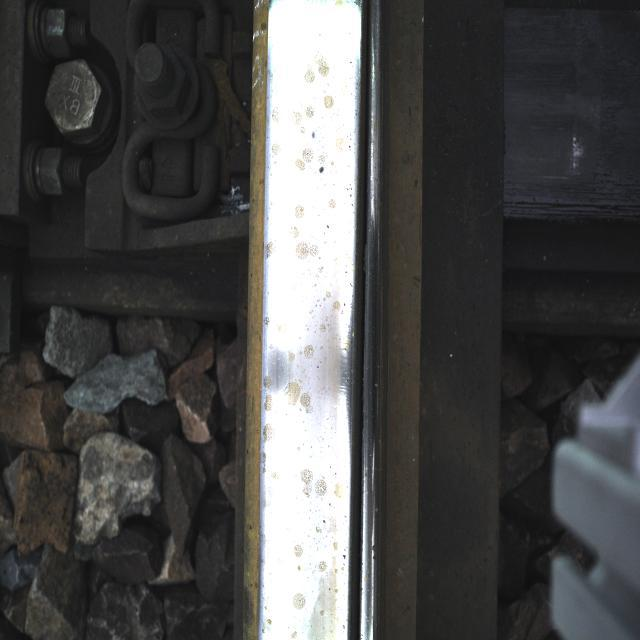scar: (275, 42, 347, 632)
